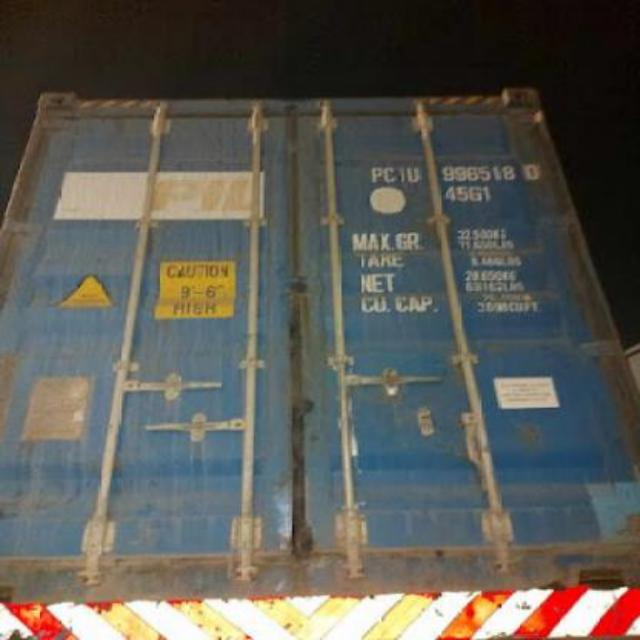0: (524, 163, 540, 181)
1: (492, 164, 504, 182)
5: (478, 163, 492, 181)
8: (502, 164, 518, 180), (456, 162, 468, 182), (468, 166, 480, 180)
9: (440, 164, 456, 182)
C: (384, 166, 398, 184)
I: (398, 166, 408, 182)
P: (368, 166, 384, 184)
U: (406, 166, 422, 184)
